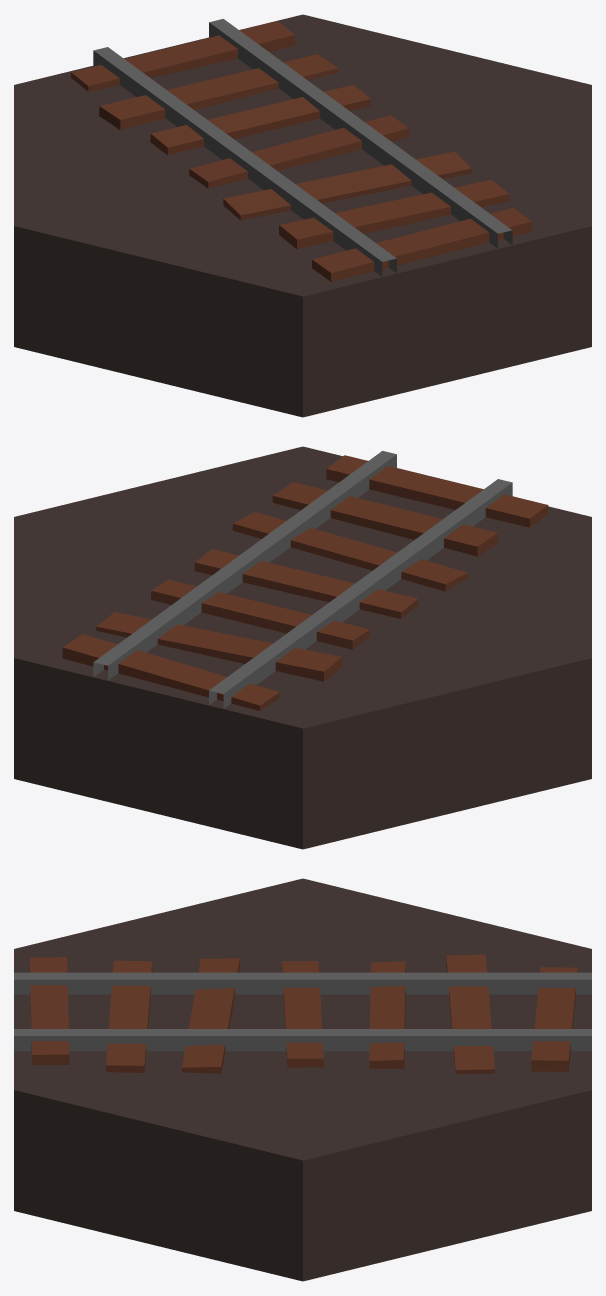
Rendered from Railway_1.fbx.
3 renders of one model, top to bottom at view 1: azimuth 30°, elevation 25°; view 2: azimuth 150°, elevation 25°; view 3: azimuth 270°, elevation 25°, orthographic.
Parts seen in each view (by area): view 1: polySurface865; view 2: polySurface865; view 3: polySurface865.
Part boxes in pixels (x1,y1,x2,y2): polySurface865: (14, 14, 591, 417); polySurface865: (14, 446, 591, 849); polySurface865: (14, 878, 591, 1281).
Bounding box in the file's own units: 20 × 4.5 × 17.32.
